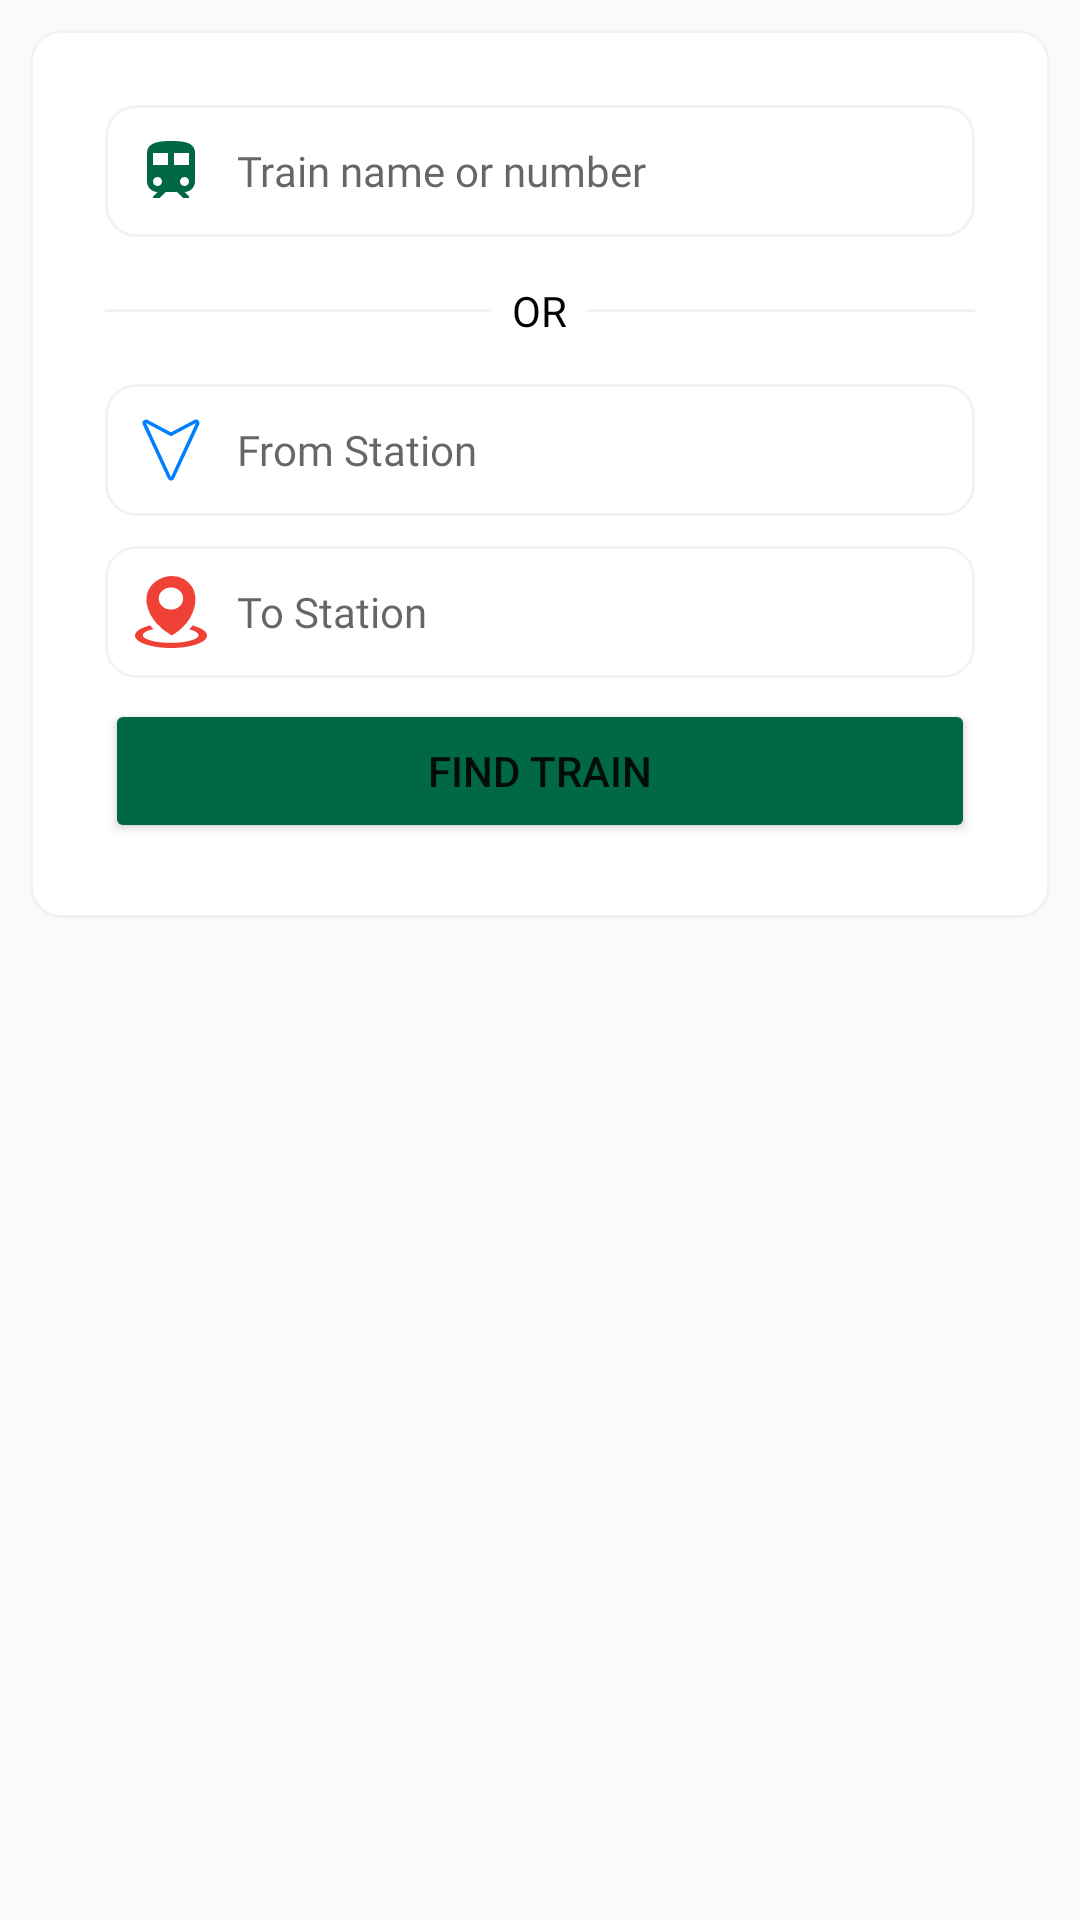

Icons on this 1080×1920 Android screen, each with its box as (x1,y1,x2,y2):
destination: (135,576,207,648)
source: (142,419,200,481)
